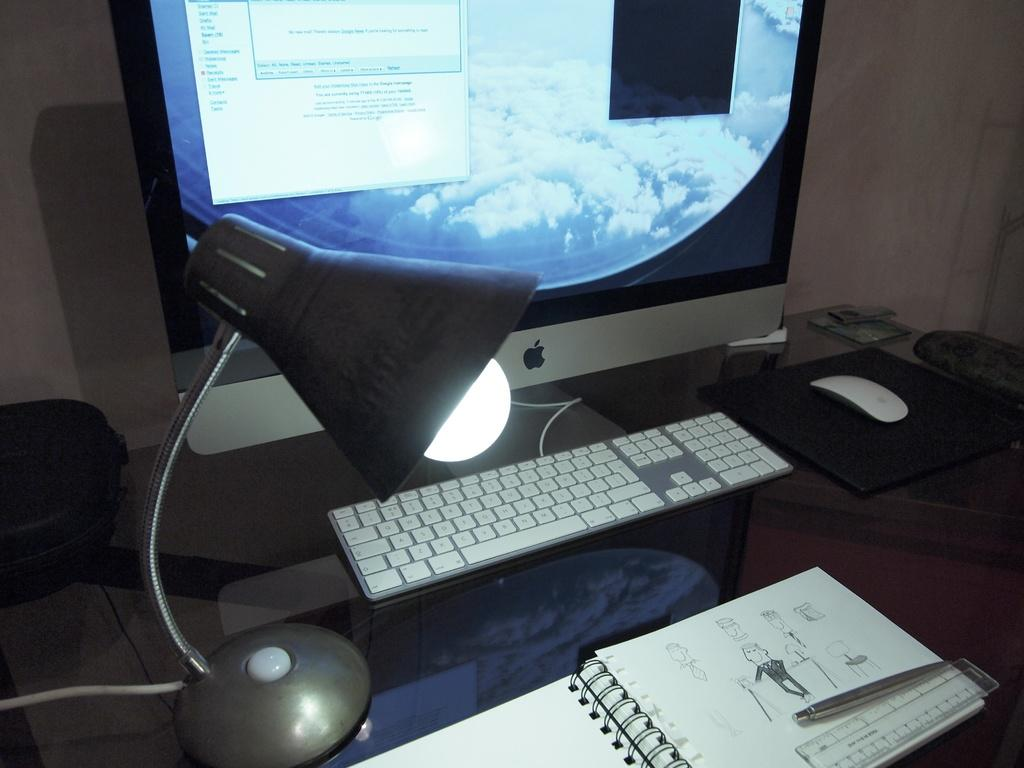Computer-keyboard: (324, 393, 797, 604)
Computer-monitor: (107, 0, 826, 485)
Computer-mouse: (805, 372, 911, 426)
